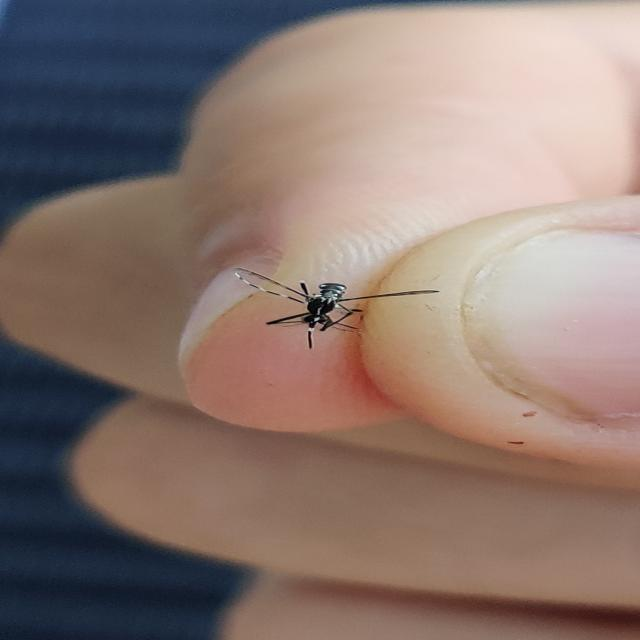albopictus: (231, 263, 433, 346)
